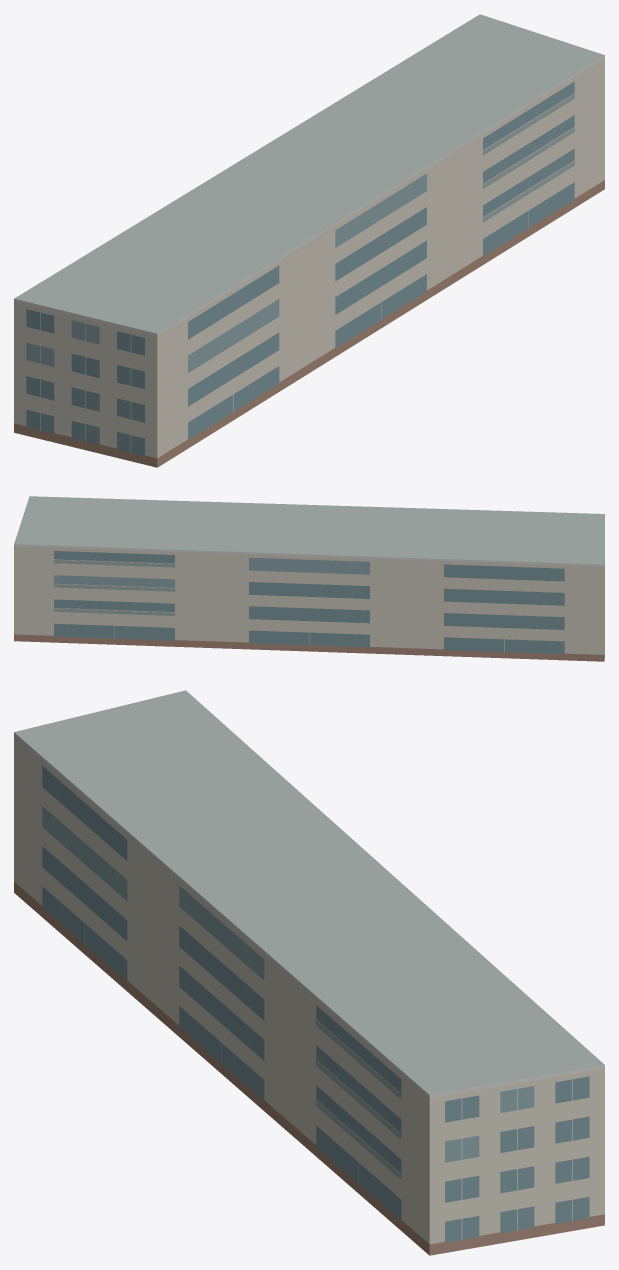
The model's file is residential-f1992db4-33fa-443d-aaff-74bed71dcfb1.glb.
The picture shows the model from 3 angles, top to bottom: view 1: azimuth 30°, elevation 25°; view 2: azimuth 150°, elevation 25°; view 3: azimuth 270°, elevation 25°; orthographic projection. The views are drawn at different scales.
Parts seen in each view (by area): view 1: residential-f1992db4-33fa-443d-aaff-74bed71dcfb1.tmp; view 2: residential-f1992db4-33fa-443d-aaff-74bed71dcfb1.tmp; view 3: residential-f1992db4-33fa-443d-aaff-74bed71dcfb1.tmp.
Boxes of the visible parts, box(x1,y1,x2,y2) form: residential-f1992db4-33fa-443d-aaff-74bed71dcfb1.tmp: box(14, 14, 604, 467); residential-f1992db4-33fa-443d-aaff-74bed71dcfb1.tmp: box(14, 496, 604, 661); residential-f1992db4-33fa-443d-aaff-74bed71dcfb1.tmp: box(14, 690, 604, 1255).
Bounding box in the file's own units: 65.98 × 12.2 × 40.7.
